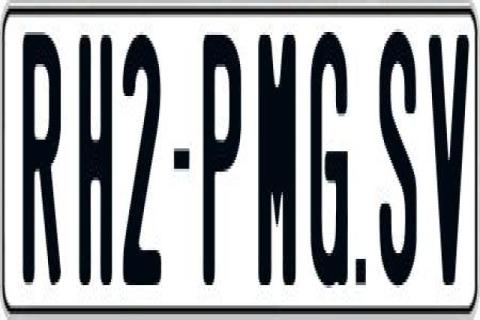0: (120, 35, 164, 303)
G: (308, 32, 352, 294)
H: (79, 26, 114, 291)
M: (257, 35, 296, 291)
P: (202, 26, 245, 276)
R: (20, 32, 58, 288)
S: (379, 32, 417, 302)
V: (426, 35, 461, 285)
